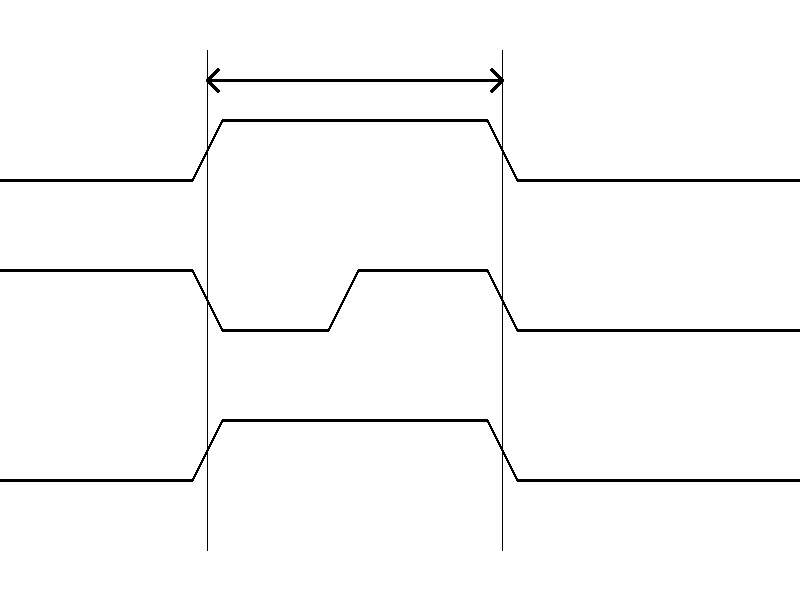double_arrow: (207, 65, 502, 95)
